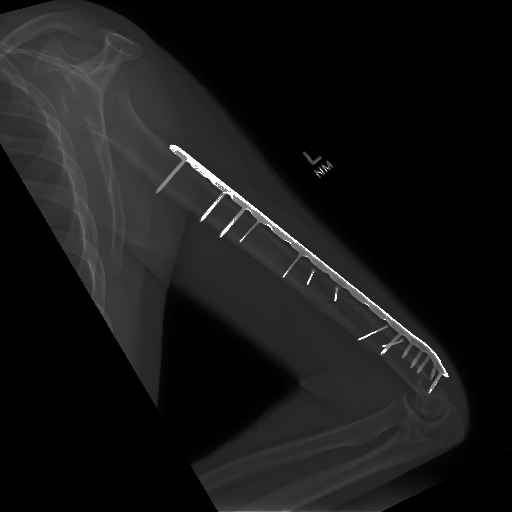implant: (367, 295, 447, 398), (195, 167, 271, 245), (283, 236, 344, 308), (153, 140, 198, 198)
